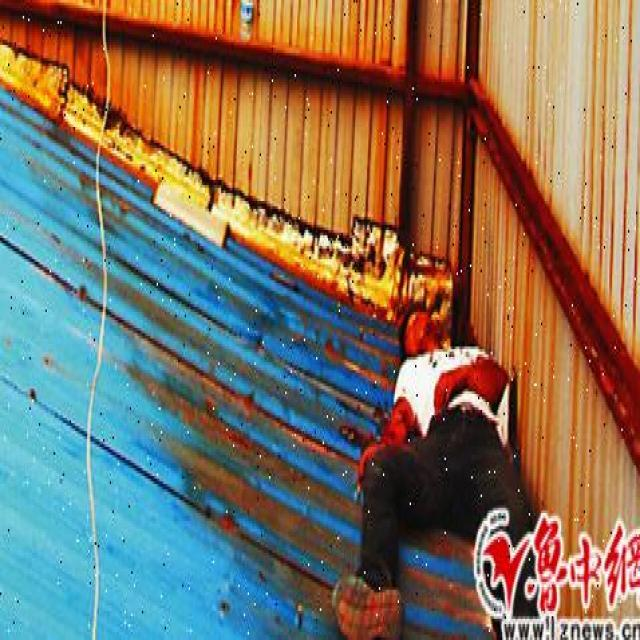fall: (328, 267, 513, 637)
